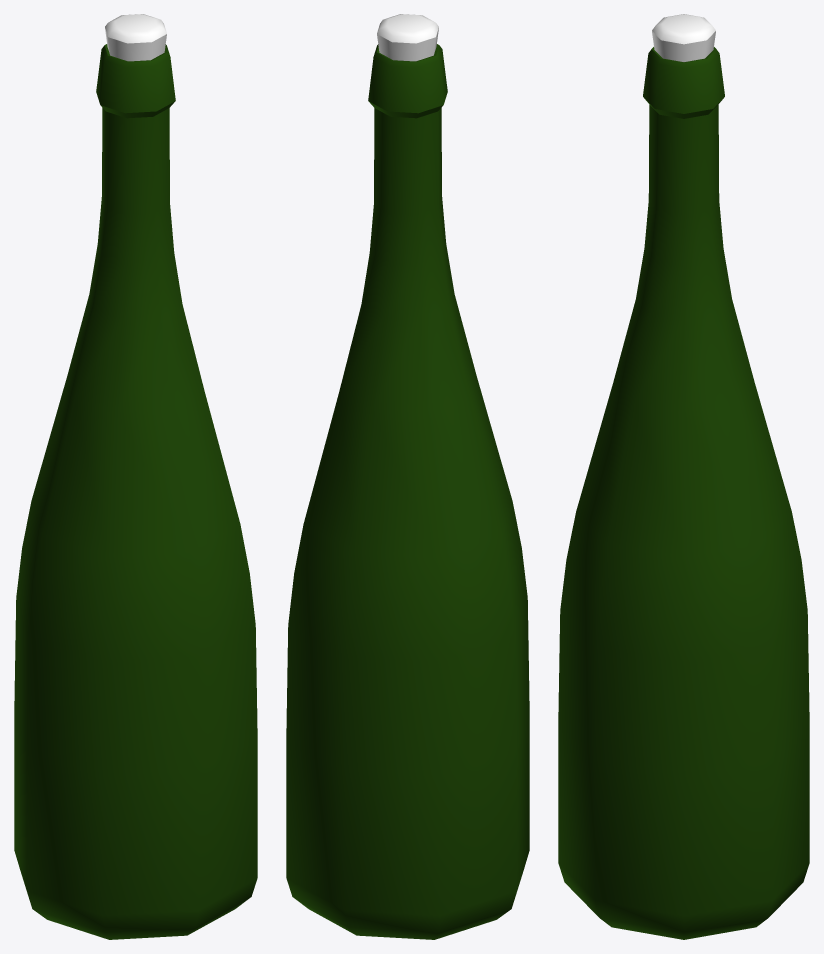
The model's file is Bottle.fbx.
3 views of the same model, side by side, from view 1: azimuth 30°, elevation 25°; view 2: azimuth 150°, elevation 25°; view 3: azimuth 270°, elevation 25° (orthographic).
Visible parts, largest first — view 1: Bottle; view 2: Bottle; view 3: Bottle.
Boxes of the visible parts, x1,y1,x2,y2 form: Bottle: (14, 14, 257, 939); Bottle: (286, 14, 529, 939); Bottle: (558, 14, 809, 939).
Size of the model in its own units: 26.58 by 102 by 26.58.
